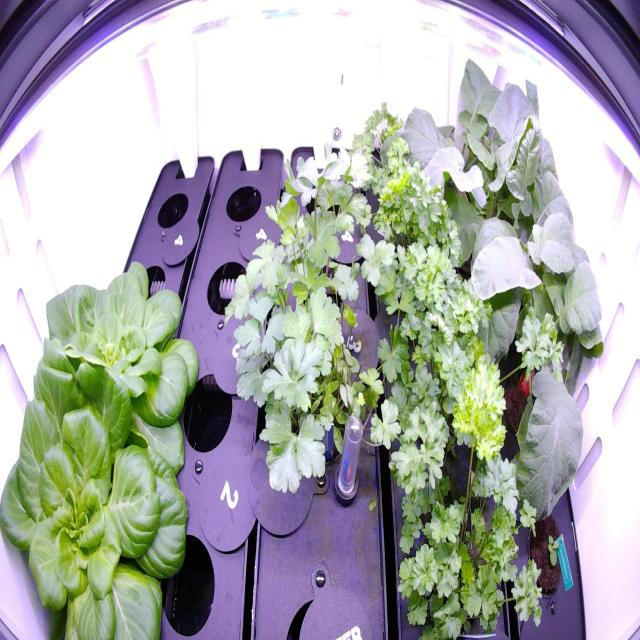empty_pod: (150, 514, 222, 634), (173, 355, 236, 467), (198, 250, 254, 323), (125, 253, 173, 320), (218, 174, 266, 237), (151, 184, 191, 237)
young: (0, 350, 195, 639), (22, 245, 202, 497), (520, 504, 573, 608)
